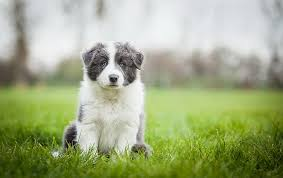dog_sitting: (58, 39, 154, 161)
